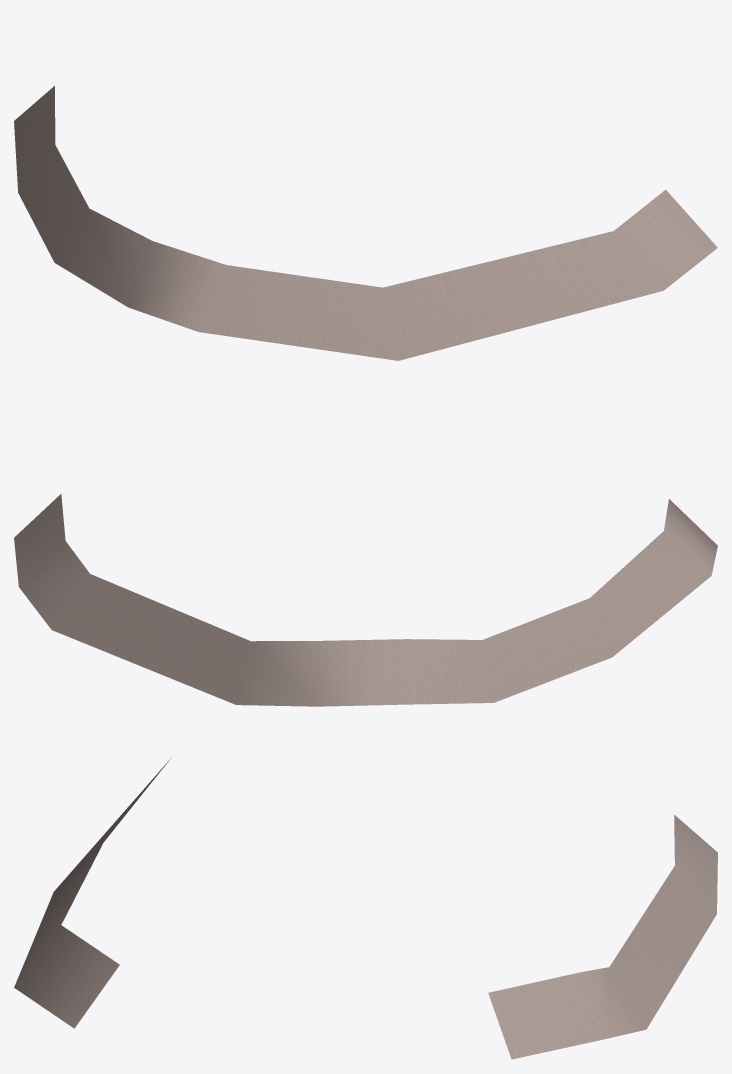
Rendered from kd_stage_1364a3_7_24.glb.
3 renders of one model, top to bottom at view 1: azimuth 30°, elevation 25°; view 2: azimuth 150°, elevation 25°; view 3: azimuth 270°, elevation 25°, orthographic. The views are drawn at different scales.
Visible parts, largest first — view 1: kd_stage_1364a3_7_24; view 2: kd_stage_1364a3_7_24; view 3: kd_stage_1364a3_7_24.
Part boxes in pixels (x1,y1,x2,y2): kd_stage_1364a3_7_24: (14,86,717,360); kd_stage_1364a3_7_24: (14,494,717,706); kd_stage_1364a3_7_24: (14,758,717,1059).
Bounding box in the file's own units: 197 × 26.4 × 200.
Materials: 1 (1 with a texture image).
